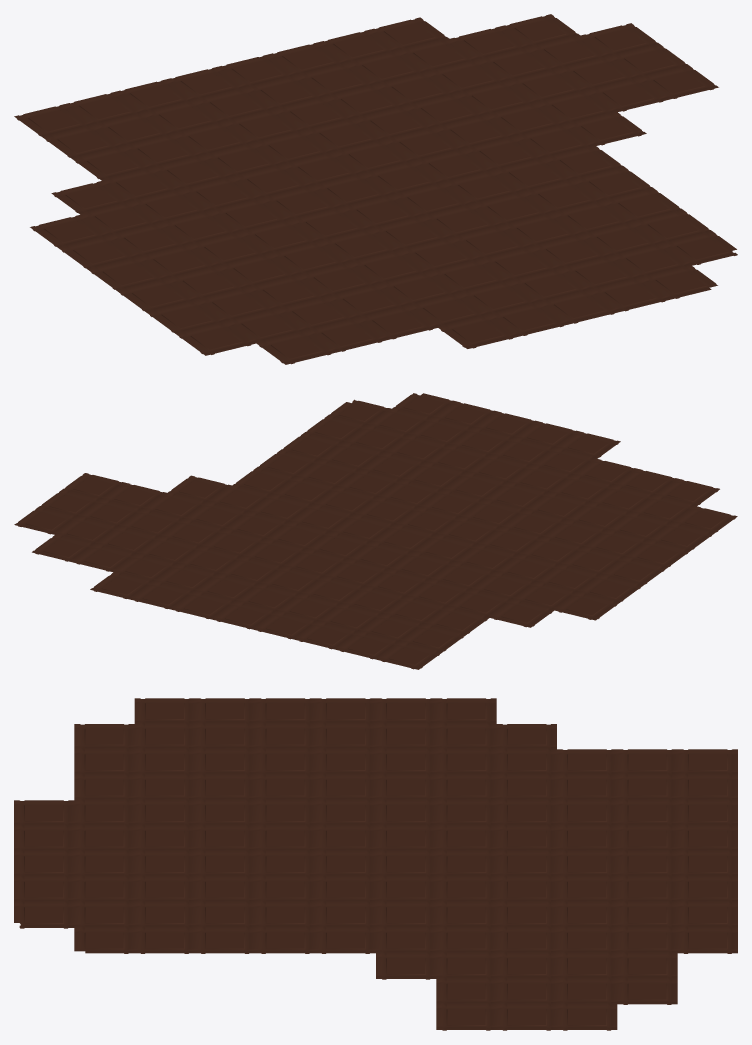
Rendered from ISAResistanceFloorComplete.fbx.
3 views of the same model, one above another, from view 1: azimuth 30°, elevation 25°; view 2: azimuth 150°, elevation 25°; view 3: azimuth 270°, elevation 25° (orthographic). The views are drawn at different scales.
Visible parts, largest first — view 1: ISAResistanceFloor; view 2: ISAResistanceFloor; view 3: ISAResistanceFloor.
Part boxes in pixels (x1,y1,x2,y2): ISAResistanceFloor: [14, 14, 737, 364]; ISAResistanceFloor: [14, 393, 737, 669]; ISAResistanceFloor: [14, 698, 737, 1030].
Size of the model in its own units: 5200 by 5 by 4800.
